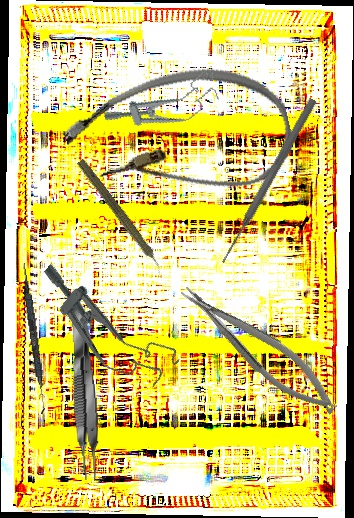Cannula: (56, 50, 302, 225)
Handpiece: (72, 157, 170, 279)
Needle Holder: (174, 270, 346, 427)
Pusher: (217, 96, 319, 266)
Spatula Surgical: (17, 262, 51, 415)
Speculum: (21, 253, 184, 402), (100, 68, 226, 145)
Tissue Forceps: (65, 302, 104, 481)
